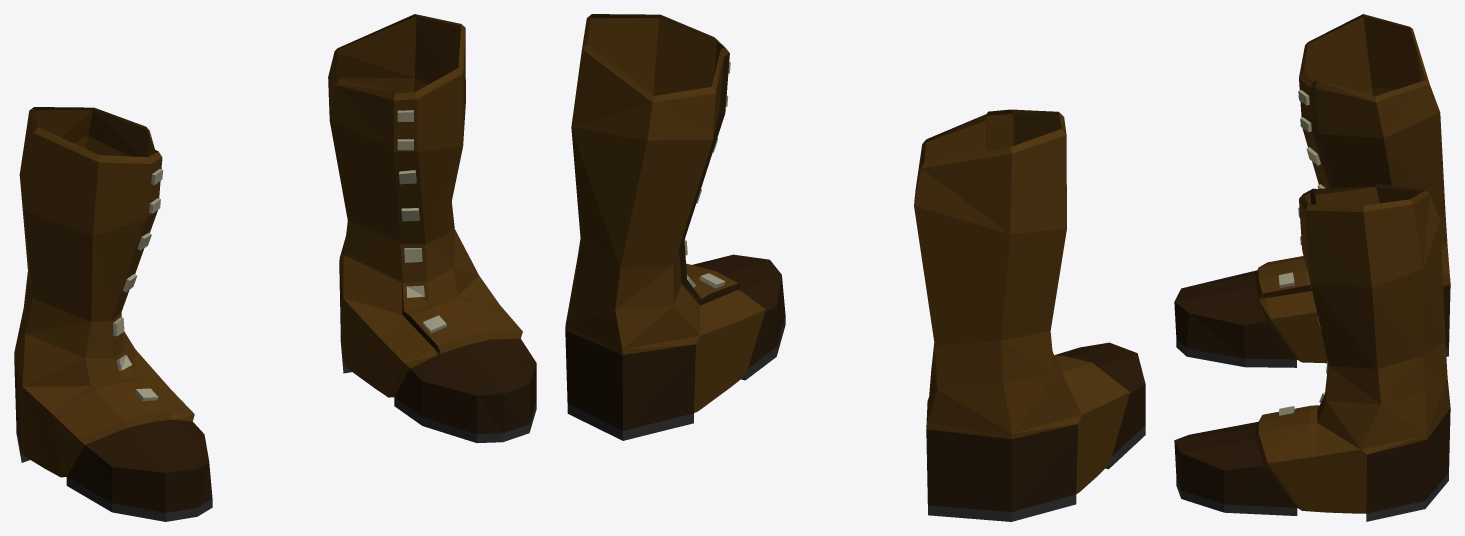
Rendered from LegendaryArcherNobleBoots.dae.
3 renders of one model, left to right at view 1: azimuth 30°, elevation 25°; view 2: azimuth 150°, elevation 25°; view 3: azimuth 270°, elevation 25°, orthographic. The views are drawn at different scales.
Parts seen in each view (by area): view 1: Boots; view 2: Boots; view 3: Boots.
Boxes of the visible parts, x1=… form: Boots: x1=14, y1=14, x2=536, y2=521; Boots: x1=565, y1=14, x2=1145, y2=521; Boots: x1=1174, y1=14, x2=1450, y2=521.
Size of the model in its own units: 2.68 by 1.51 by 1.87.
